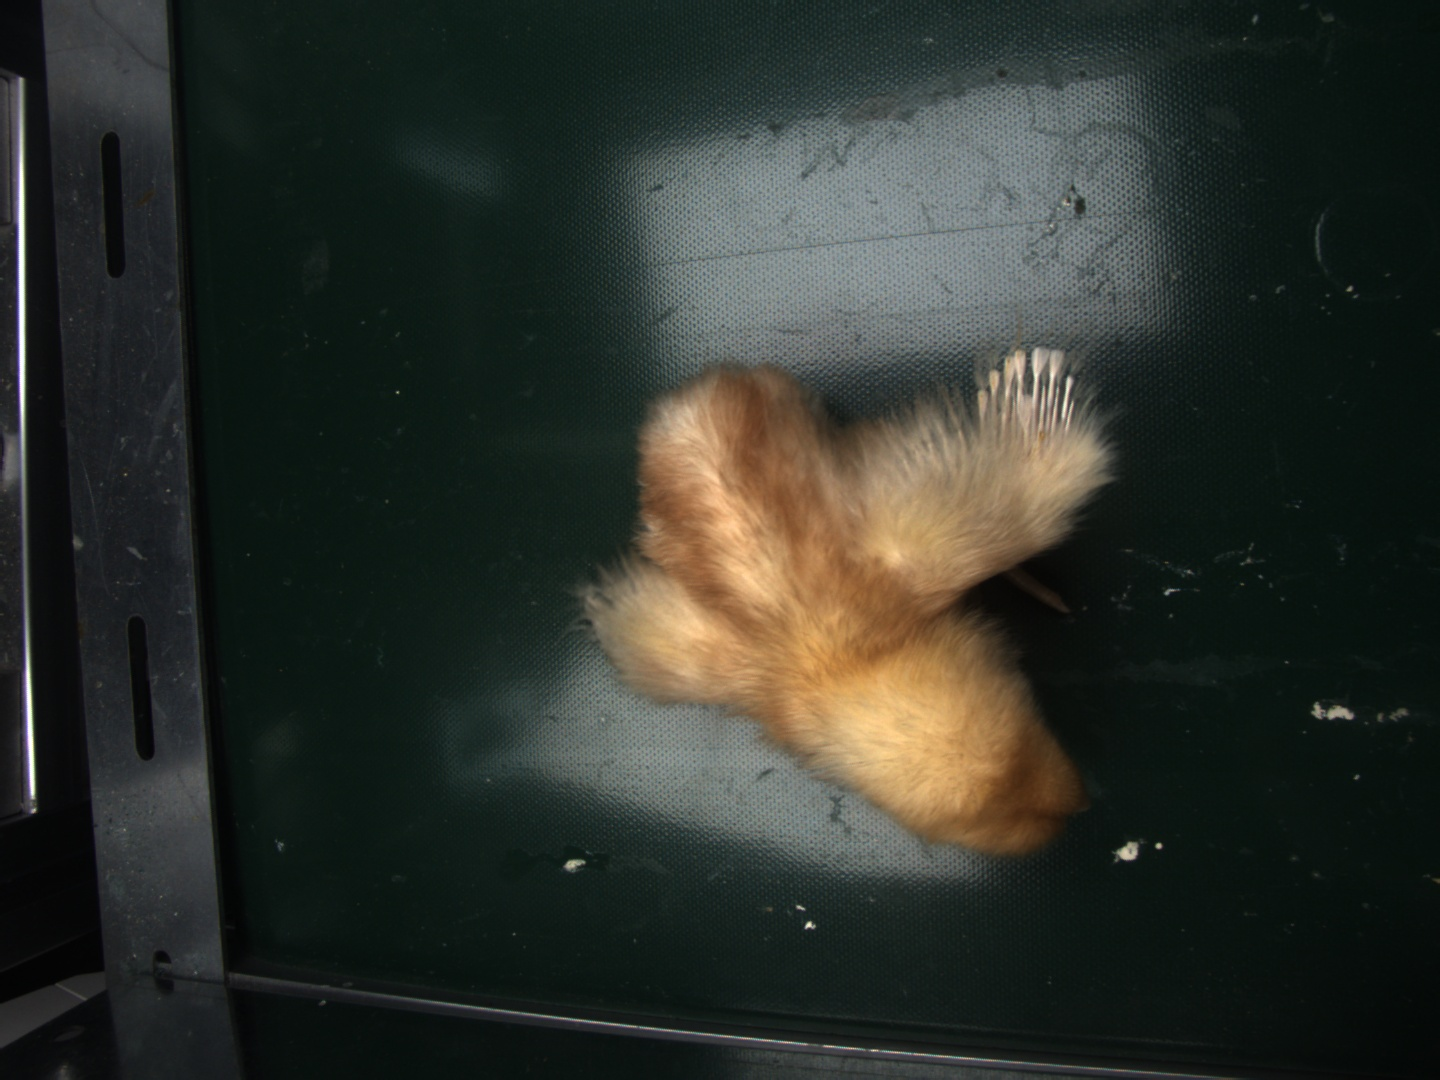female: (973, 348, 1082, 427)
